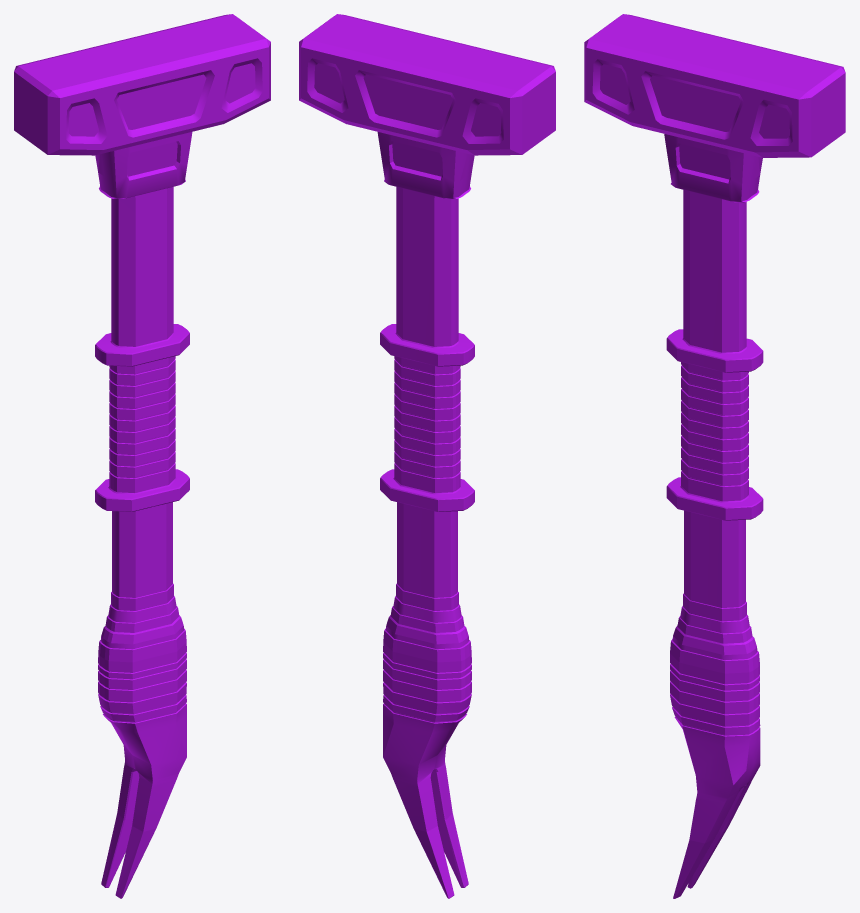
Rendered from dingdong.FBX.
3 renders of one model, left to right at view 1: azimuth 30°, elevation 25°; view 2: azimuth 150°, elevation 25°; view 3: azimuth 330°, elevation 25°, orthographic.
Parts seen in each view (by area): view 1: handleshaft001, head001; view 2: handleshaft001, head001; view 3: handleshaft001, head001.
Part boxes in pixels (bbox=[...]): handleshaft001: bbox=[95, 132, 192, 898]; head001: bbox=[14, 14, 270, 155]; handleshaft001: bbox=[377, 132, 474, 898]; head001: bbox=[299, 14, 555, 155]; handleshaft001: bbox=[664, 134, 763, 898]; head001: bbox=[584, 14, 845, 157].
Size of the model in its own units: 83.74 by 298 by 28.59.
